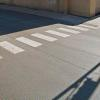Crosswalk: (4, 17, 86, 60)
